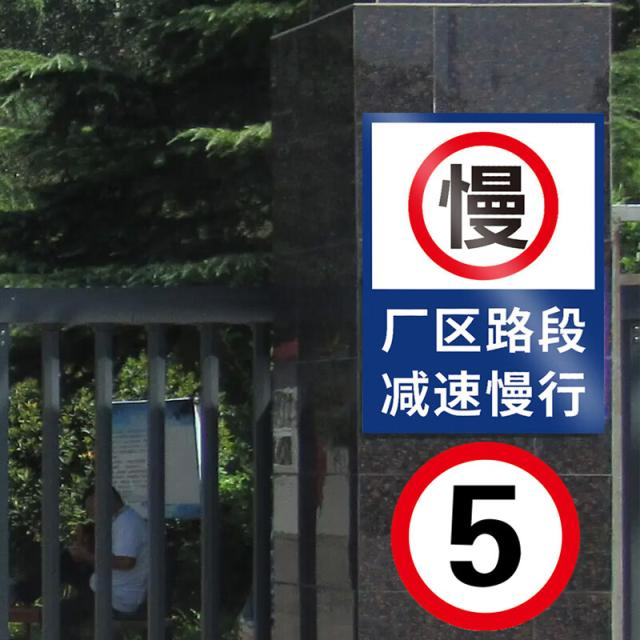speed limit 10: (388, 440, 581, 633)
